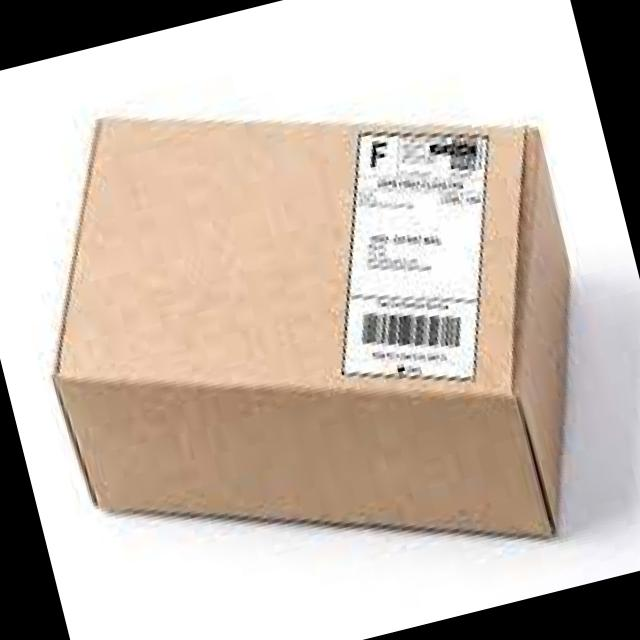box: (50, 116, 572, 539)
